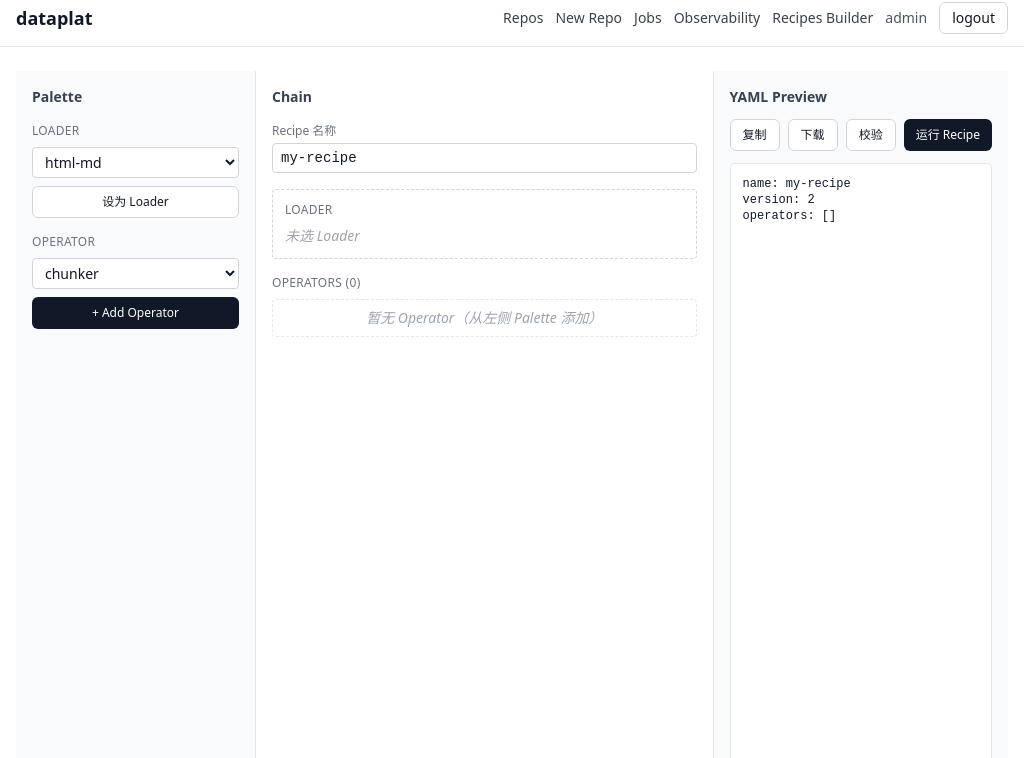
Test: /recipes/builder › remove operator
The image size is (1024, 758).
Note: 添加第 1 个 operator: filter
Select "filter" in the dropdown with test id "operator-select". click: point(136, 274)
box: [32, 258, 239, 289]
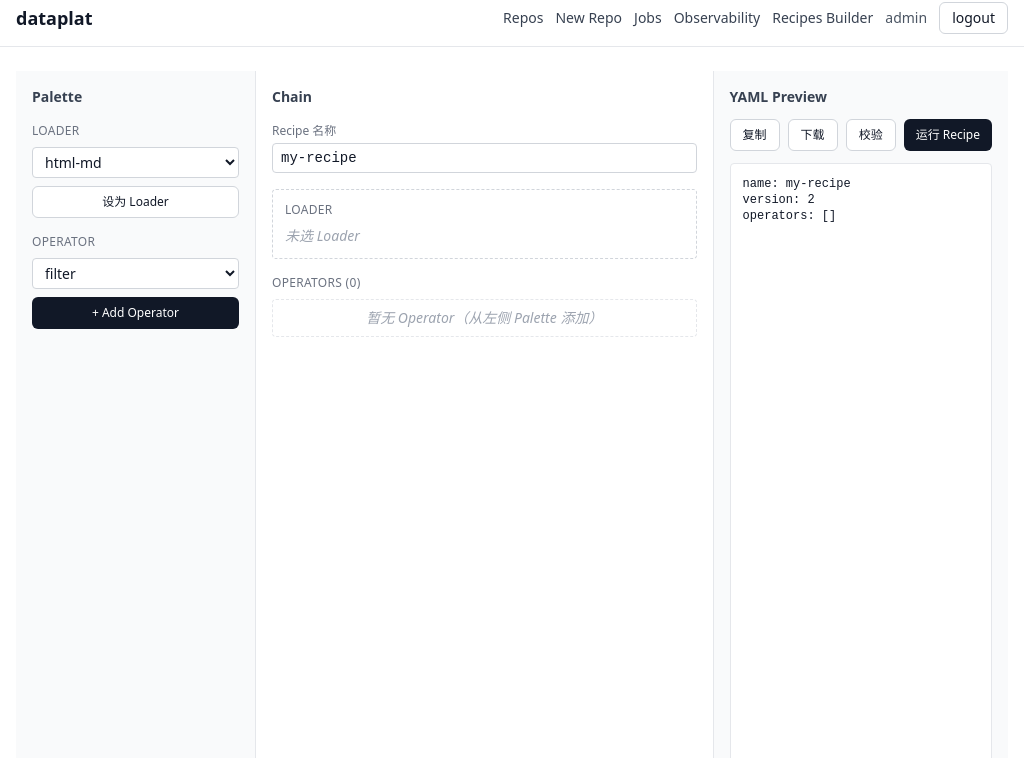
Click the button with test id "operator-add". click: point(136, 313)
box: [32, 297, 239, 329]
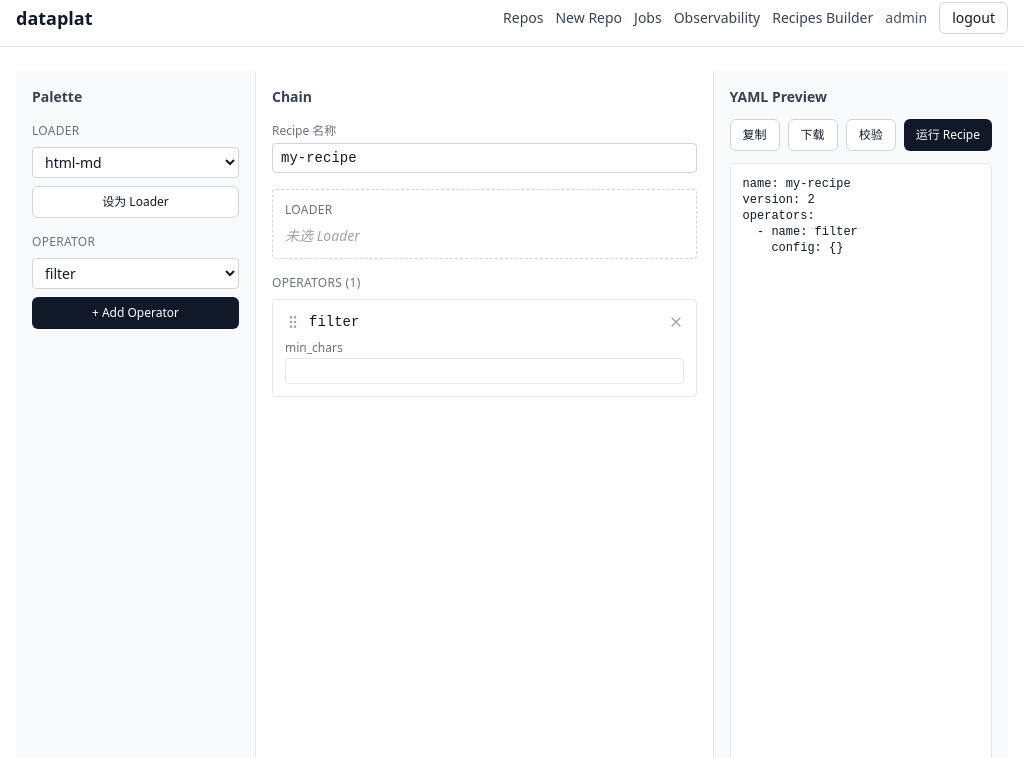
Note: 添加第 2 个 operator: dedup
Select "dedup" in the dropdown with test id "operator-select". click: point(136, 274)
box: [32, 258, 239, 289]
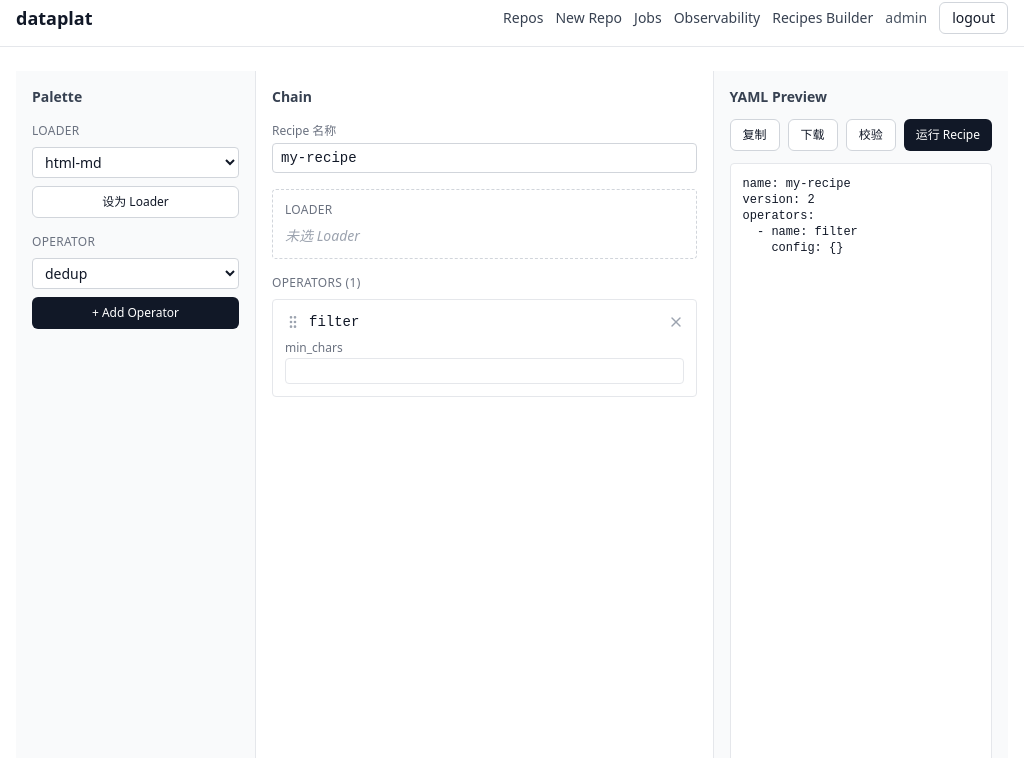
Click the button with test id "operator-add". click: point(136, 313)
box: [32, 297, 239, 329]
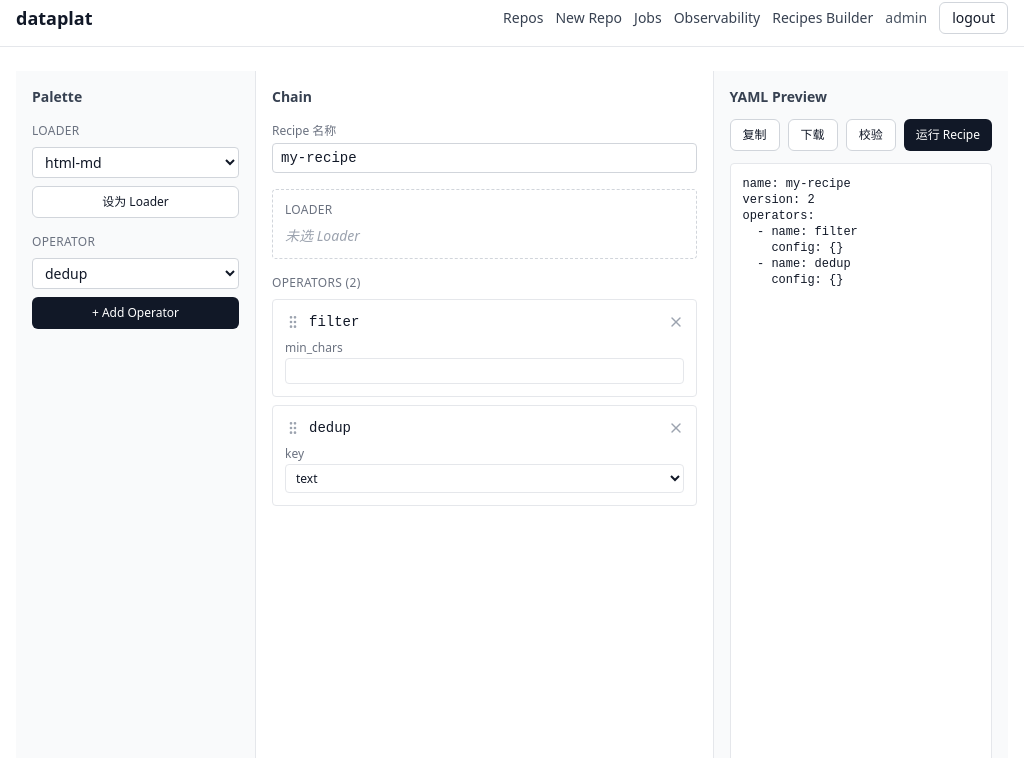
Expected: the element with test id "operator-card-0" is shown, [272, 299, 697, 397]
Expected: the element with test id "operator-card-1" is shown, [272, 405, 697, 506]
Note: 点第 0 个 operator 的删除按钮
Click the button with test id "operator-remove-0". click: point(676, 322)
box: [668, 314, 684, 330]
(page scrolled)
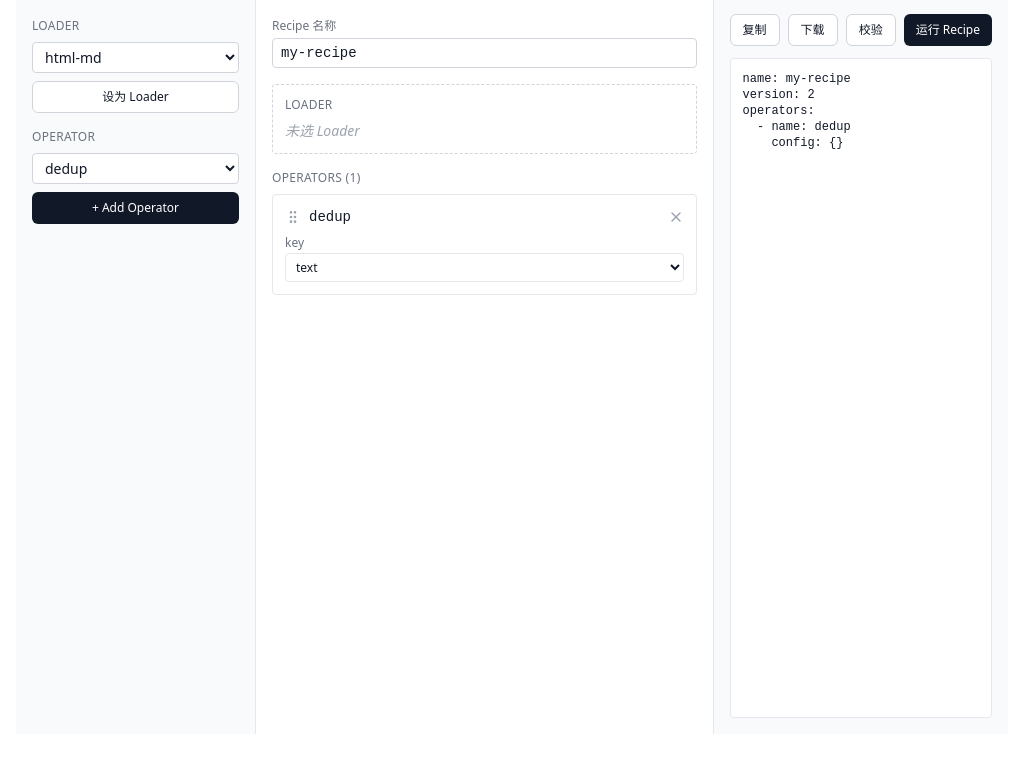
Expected: the text with test id "yaml-preview" shows "dedup", [743, 72, 851, 150]
Expected: the element with test id "operator-card-0" is shown, [272, 194, 697, 295]
Expected: the text with test id "yaml-preview" no longer shows "filter"
